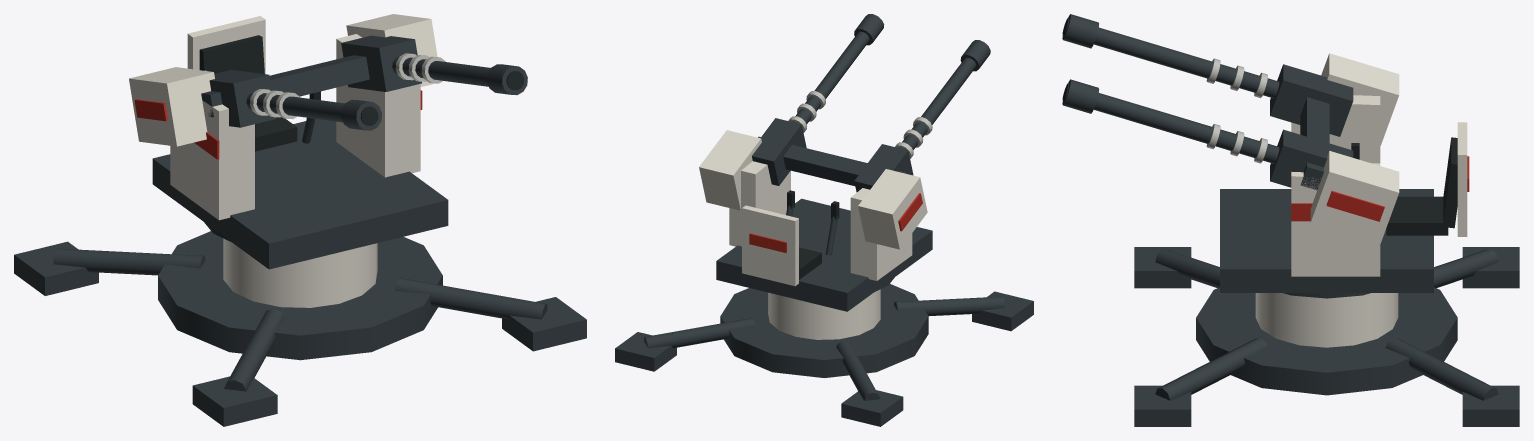
3 views of the same model, side by side, from view 1: azimuth 30°, elevation 25°; view 2: azimuth 150°, elevation 25°; view 3: azimuth 270°, elevation 25° (orthographic). The views are drawn at different scales.
Visible parts, largest first — view 1: aa-gun-manned-fleet-machine, turret-fleet-machine, turret-fleet-armor, aa-gun-manned-fleet-armor, elevation-fleet-armor, aa-barrel-right-fleet-machine, aa-barrel-left-fleet-machine, turret-fleet-rubber, elevation-fleet-machine, aa-barrel-right-fleet-edge, aa-barrel-left-fleet-edge, elevation-fleet-red; view 2: aa-gun-manned-fleet-machine, turret-fleet-armor, turret-fleet-machine, elevation-fleet-armor, aa-barrel-right-fleet-machine, aa-gun-manned-fleet-armor, aa-barrel-left-fleet-machine, elevation-fleet-machine, turret-fleet-rubber, aa-barrel-left-fleet-edge, aa-barrel-right-fleet-edge, turret-fleet-red; view 3: aa-gun-manned-fleet-machine, turret-fleet-machine, turret-fleet-armor, elevation-fleet-armor, aa-barrel-left-fleet-machine, aa-gun-manned-fleet-armor, aa-barrel-right-fleet-machine, turret-fleet-rubber, elevation-fleet-machine, elevation-fleet-red, aa-barrel-left-fleet-edge, aa-barrel-right-fleet-edge (+1 smaller).
Boxes of the visible parts, left/top/right/bottom form: aa-gun-manned-fleet-machine: left=14, top=222, right=586, bottom=426; turret-fleet-machine: left=152, top=117, right=448, bottom=269; turret-fleet-armor: left=170, top=16, right=420, bottom=220; aa-gun-manned-fleet-armor: left=223, top=238, right=377, bottom=307; elevation-fleet-armor: left=129, top=14, right=437, bottom=146; aa-barrel-right-fleet-machine: left=341, top=35, right=527, bottom=95; aa-barrel-left-fleet-machine: left=209, top=69, right=381, bottom=130; turret-fleet-rubber: left=199, top=35, right=320, bottom=151; elevation-fleet-machine: left=201, top=55, right=369, bottom=117; aa-barrel-right-fleet-edge: left=395, top=53, right=445, bottom=83; aa-barrel-left-fleet-edge: left=250, top=89, right=300, bottom=119; elevation-fleet-red: left=134, top=99, right=168, bottom=121; aa-gun-manned-fleet-machine: left=615, top=277, right=1033, bottom=426; turret-fleet-armor: left=729, top=161, right=912, bottom=286; turret-fleet-machine: left=716, top=198, right=932, bottom=311; elevation-fleet-armor: left=699, top=130, right=927, bottom=249; aa-barrel-right-fleet-machine: left=752, top=14, right=884, bottom=185; aa-gun-manned-fleet-armor: left=768, top=289, right=880, bottom=339; aa-barrel-left-fleet-machine: left=854, top=40, right=990, bottom=192; elevation-fleet-machine: left=758, top=136, right=906, bottom=185; turret-fleet-rubber: left=787, top=190, right=839, bottom=279; aa-barrel-left-fleet-edge: left=895, top=117, right=932, bottom=158; aa-barrel-right-fleet-edge: left=788, top=91, right=825, bottom=132; turret-fleet-red: left=749, top=233, right=786, bottom=252; aa-gun-manned-fleet-machine: left=1134, top=247, right=1519, bottom=426; turret-fleet-machine: left=1220, top=189, right=1433, bottom=292; turret-fleet-armor: left=1291, top=95, right=1467, bottom=276; elevation-fleet-armor: left=1310, top=53, right=1399, bottom=243; aa-barrel-left-fleet-machine: left=1062, top=14, right=1353, bottom=136; aa-gun-manned-fleet-armor: left=1255, top=293, right=1398, bottom=347; aa-barrel-right-fleet-machine: left=1062, top=79, right=1353, bottom=187; turret-fleet-rubber: left=1351, top=137, right=1457, bottom=235; elevation-fleet-machine: left=1300, top=97, right=1329, bottom=190; elevation-fleet-red: left=1326, top=191, right=1384, bottom=221; aa-barrel-left-fleet-edge: left=1206, top=58, right=1267, bottom=98; aa-barrel-right-fleet-edge: left=1206, top=124, right=1267, bottom=163.
Size of the model in its own units: 16.86 by 14.36 by 20.
